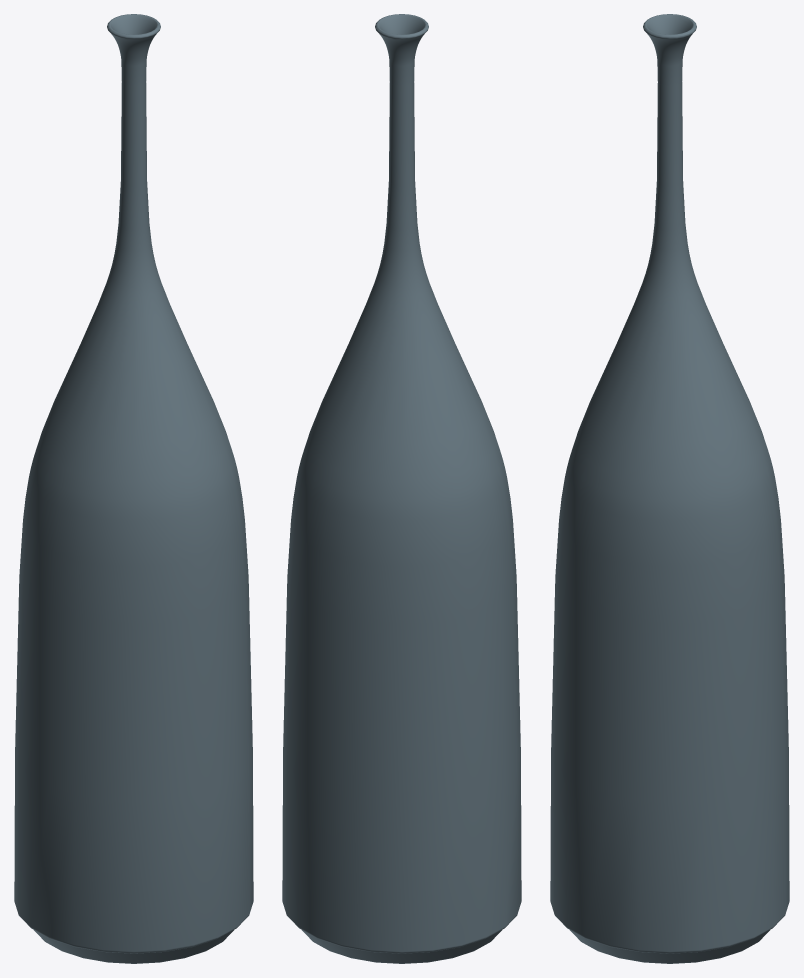
The model's file is Pot2.fbx.
The picture shows the model from 3 angles, left to right: view 1: azimuth 30°, elevation 25°; view 2: azimuth 150°, elevation 25°; view 3: azimuth 270°, elevation 25°; orthographic projection.
Visible parts, largest first — view 1: Pot2; view 2: Pot2; view 3: Pot2.
Part boxes in pixels (x1,y1,x2,y2): Pot2: (14,14,253,963); Pot2: (282,14,521,963); Pot2: (550,14,789,963).
Size of the model in its own units: 0.1028 by 0.4255 by 0.1028.
Materials: 1 (1 with a texture image).
